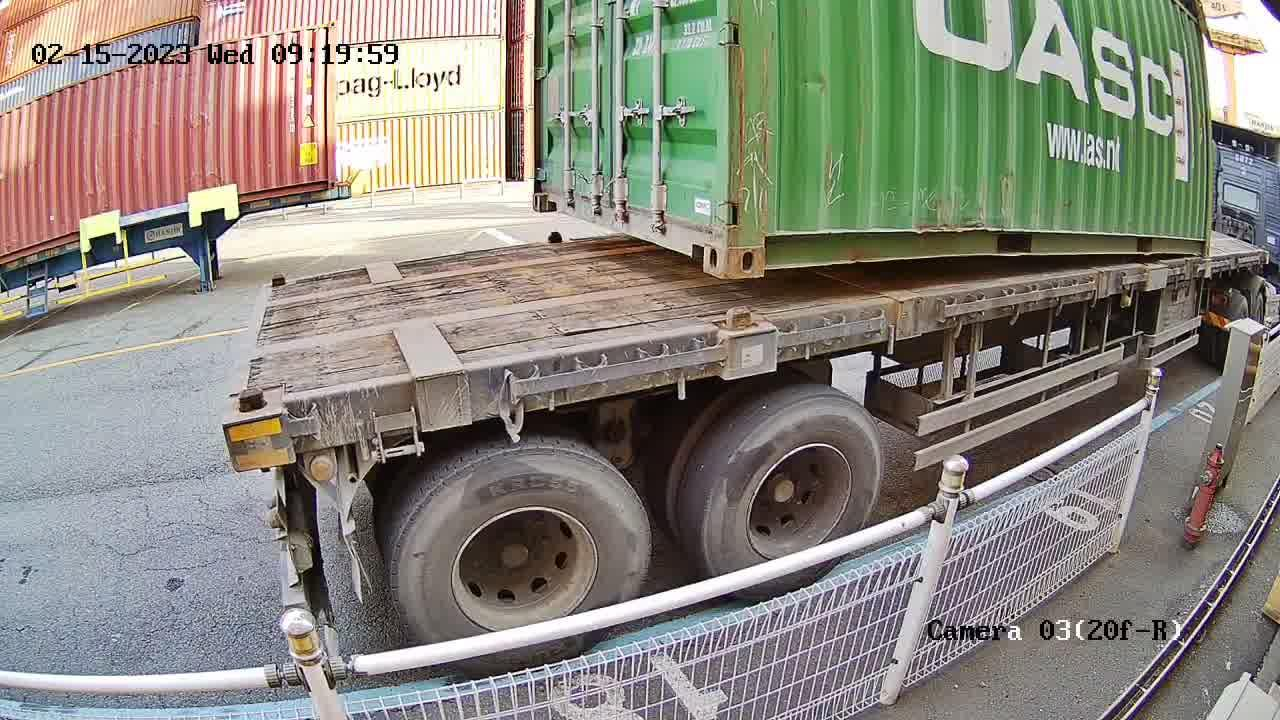Cone: (716, 301, 775, 374), (543, 227, 569, 244)
Hole_L: (728, 180, 798, 276), (531, 164, 564, 213)
Hole_R: (679, 171, 731, 274)
Tire: (394, 449, 654, 641), (704, 394, 882, 575)
